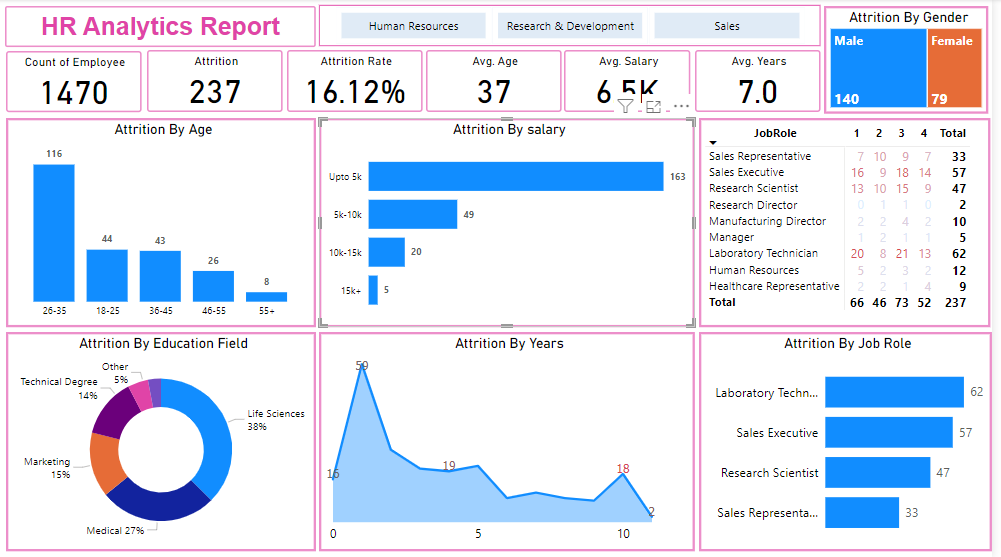

The page's visual inventory and layout, read from the dashboard file:
{"tool":"powerbi","page":{"name":"Page 1","canvas":[1280,720],"ordinal":0},"visuals":[{"type":"card","title":"Attrition Rate","fields":{"Values":["HR_Analytics.Attrition Rate"]},"box":[369.9,66,175,80],"z":0},{"type":"card","title":"Attrition","fields":{"Values":["Sum(HR_Analytics.AttritionCount)"]},"box":[189.9,65.8,175,80],"z":1000},{"type":"card","title":"Count of Employee","fields":{"Values":["CountNonNull(HR_Analytics.EmpID)"]},"box":[7.9,66.7,174.6,79.4],"z":2000},{"type":"card","title":"Avg. Age","fields":{"Values":["Avg(HR_Analytics.Age)"]},"box":[549.1,66,175,80],"z":3000},{"type":"card","title":"Avg. Salary","fields":{"Values":["Avg(HR_Analytics.MonthlyIncome)"]},"box":[728.2,65.8,163.3,80],"z":4000},{"type":"card","title":"Avg. Years","fields":{"Values":["Avg(HR_Analytics.YearsAtCompany)"]},"box":[896.5,66.3,161.7,80],"z":5000},{"type":"donutChart","title":"Attrition By Education Field","fields":{"Category":["HR_Analytics.EducationField"],"Y":["Sum(HR_Analytics.AttritionCount)"]},"box":[7.7,430,400,283.1],"z":6000},{"type":"columnChart","title":"Attrition By Age","fields":{"Category":["HR_Analytics.AgeGroup"],"Y":["Sum(HR_Analytics.AttritionCount)"]},"box":[7.8,153.3,400,270],"z":7000},{"type":"pivotTable","fields":{"Rows":["HR_Analytics.JobRole"],"Columns":["HR_Analytics.JobSatisfaction"],"Values":["Sum(HR_Analytics.AttritionCount)"]},"box":[902,153,376,270],"z":8000},{"type":"barChart","title":"Attrition By salary","fields":{"Category":["HR_Analytics.SalarySlab"],"Y":["Sum(HR_Analytics.AttritionCount)"]},"box":[411.7,153.3,485,270],"z":9000},{"type":"barChart","title":"Attrition By Job Role","fields":{"Category":["HR_Analytics.JobRole"],"Y":["Sum(HR_Analytics.AttritionCount)"]},"box":[901.7,430,378,283.3],"z":10000},{"type":"areaChart","title":"Attrition By Years","fields":{"Category":["HR_Analytics.YearsAtCompany"],"Y":["Sum(HR_Analytics.AttritionCount)"]},"box":[411.7,430,485,283.3],"z":11000},{"type":"slicer","fields":{"Values":["HR_Analytics.Department"]},"box":[411.7,8.3,646.7,53],"z":12000},{"type":"treemap","title":"Attrition By Gender","fields":{"Group":["HR_Analytics.Gender"],"Values":["Sum(HR_Analytics.AttritionCount)"]},"box":[1063.6,8.6,212,139.3],"z":13000},{"type":"textbox","box":[7.8,6.1,393.9,55.6],"z":14000}]}

Visuals, with their boxes in screenshot pixels (x1, y1, x2, y2), scaled from the page's 1280x720 canvas onto the 1001x557 screenshot:
"Attrition Rate" card: <bbox>289, 51, 426, 113</bbox>
"Attrition" card: <bbox>149, 51, 285, 113</bbox>
"Count of Employee" card: <bbox>6, 52, 143, 113</bbox>
"Avg. Age" card: <bbox>429, 51, 566, 113</bbox>
"Avg. Salary" card: <bbox>569, 51, 697, 113</bbox>
"Avg. Years" card: <bbox>701, 51, 828, 113</bbox>
"Attrition By Education Field" donutChart: <bbox>6, 333, 319, 552</bbox>
"Attrition By Age" columnChart: <bbox>6, 119, 319, 327</bbox>
pivotTable - HR_Analytics.JobRole x HR_Analytics.JobSatisfaction: <bbox>705, 118, 999, 327</bbox>
"Attrition By salary" barChart: <bbox>322, 119, 701, 327</bbox>
"Attrition By Job Role" barChart: <bbox>705, 333, 1000, 552</bbox>
"Attrition By Years" areaChart: <bbox>322, 333, 701, 552</bbox>
slicer - HR_Analytics.Department: <bbox>322, 6, 828, 47</bbox>
"Attrition By Gender" treemap: <bbox>832, 7, 998, 114</bbox>
textbox: <bbox>6, 5, 314, 48</bbox>
